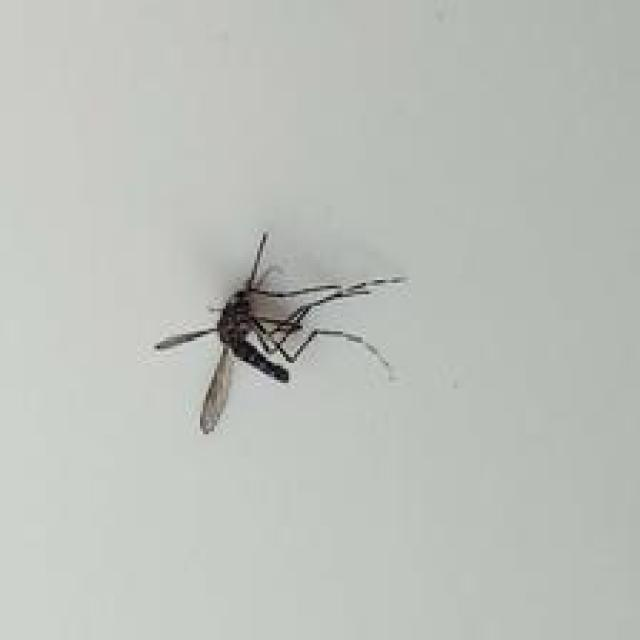Aedes albopictus: (153, 230, 407, 436)
